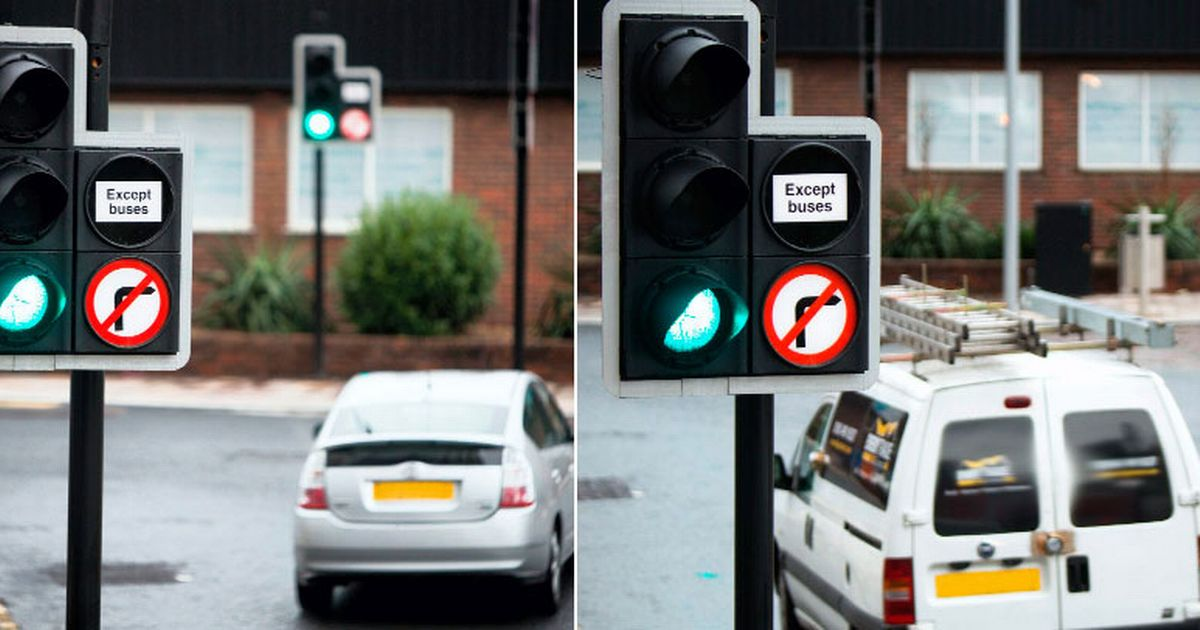No_right_turn: (761, 262, 858, 365), (81, 256, 173, 350)
